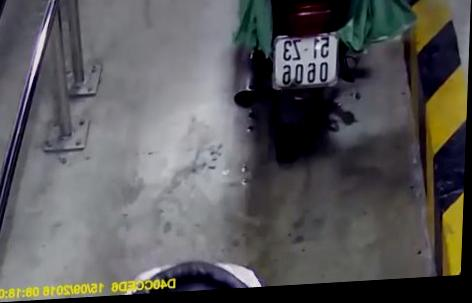License_Plate: (267, 27, 345, 90)
